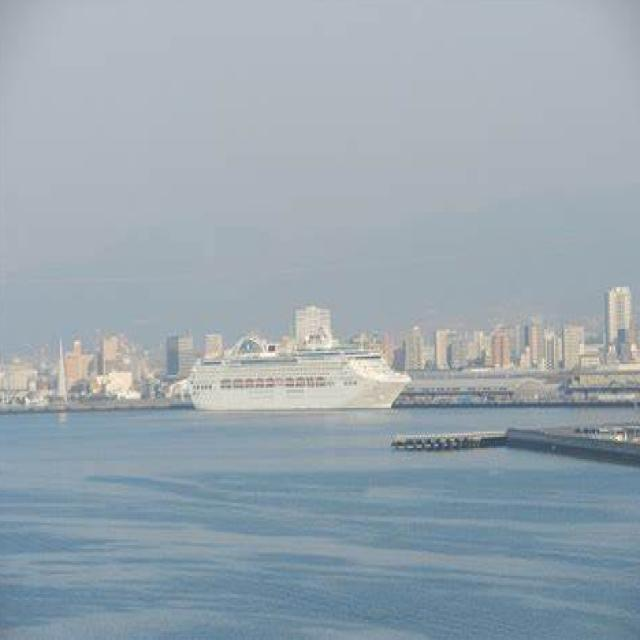passenger ship: (182, 330, 401, 419)
